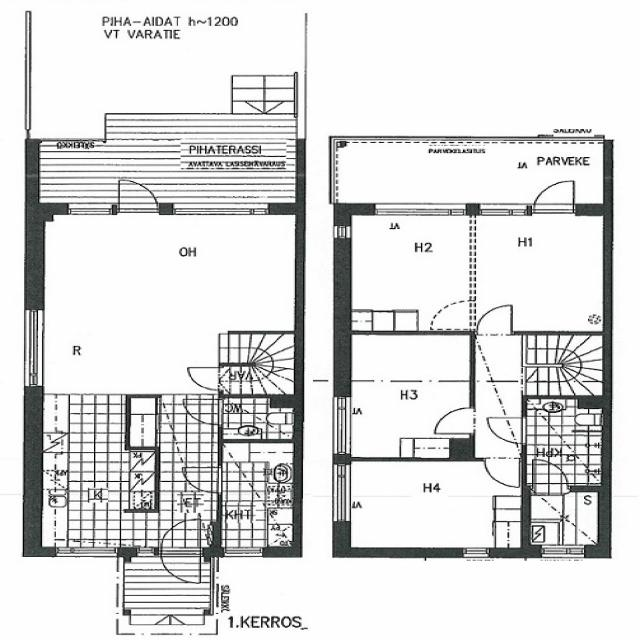door: (160, 548, 200, 587), (119, 175, 157, 215), (160, 519, 200, 557), (535, 176, 573, 214), (532, 460, 568, 492), (485, 458, 520, 488), (183, 400, 223, 426), (183, 468, 223, 494), (486, 418, 526, 444), (434, 409, 474, 435), (478, 306, 512, 335), (188, 368, 222, 391)
